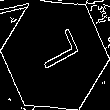L_SW: (28, 30, 82, 80)
